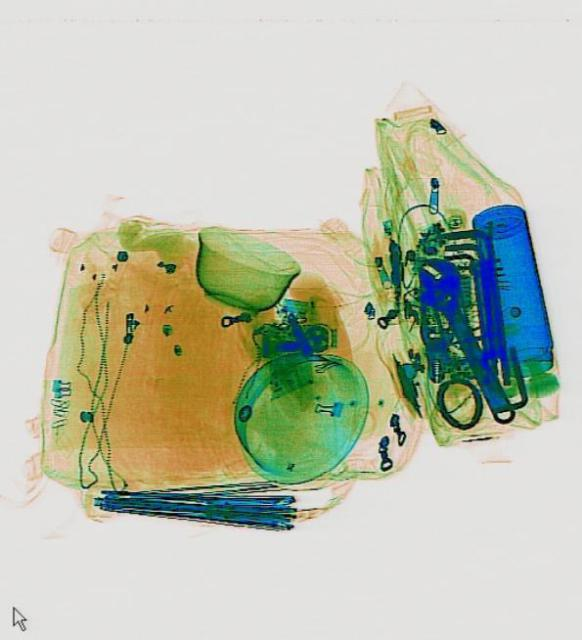Wrench: (402, 248, 529, 434)
